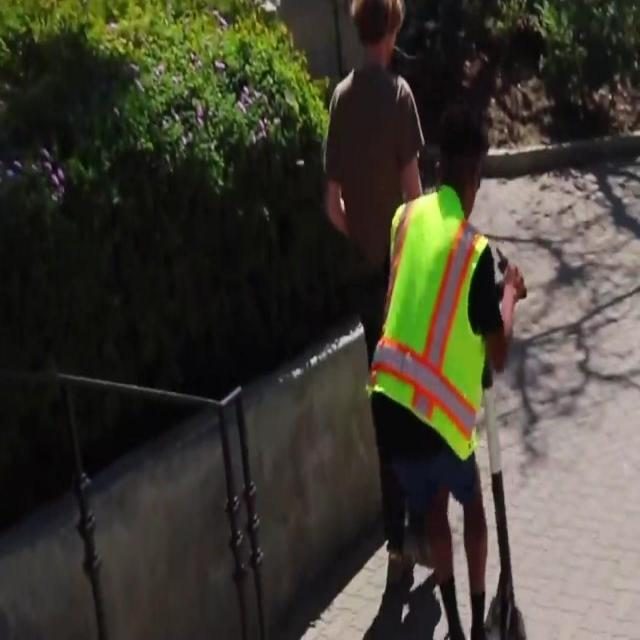vest: (366, 180, 490, 458)
